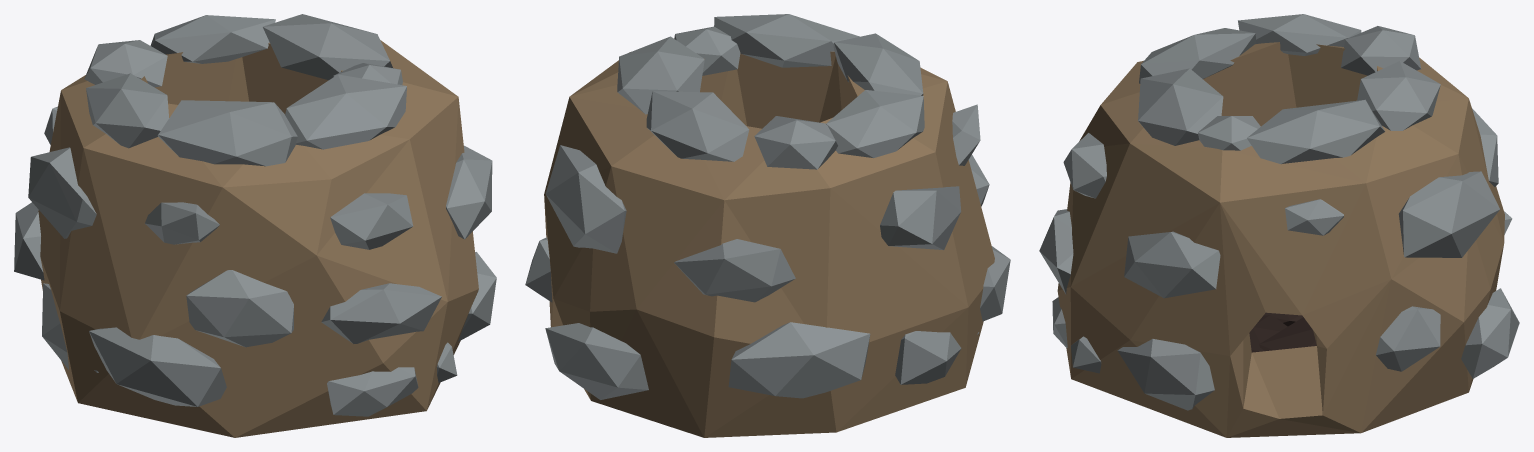
File: furnance.fbx
3 views of the same model, side by side, from view 1: azimuth 30°, elevation 25°; view 2: azimuth 150°, elevation 25°; view 3: azimuth 270°, elevation 25° (orthographic).
Visible parts, largest first — view 1: Furnace; view 2: Furnace; view 3: Furnace.
Boxes of the visible parts, box(x1,y1,x2,y2) form: Furnace: box(14, 14, 496, 437); Furnace: box(525, 14, 1010, 437); Furnace: box(1039, 14, 1519, 437).
Size of the model in its own units: 233 by 166 by 251.
